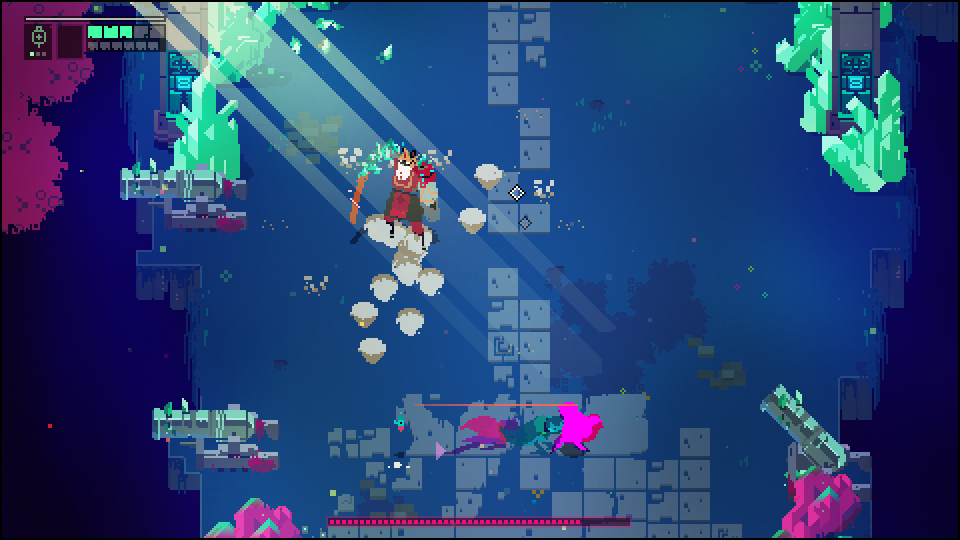hanged_man: (348, 136, 441, 245)
player: (555, 402, 603, 452)
